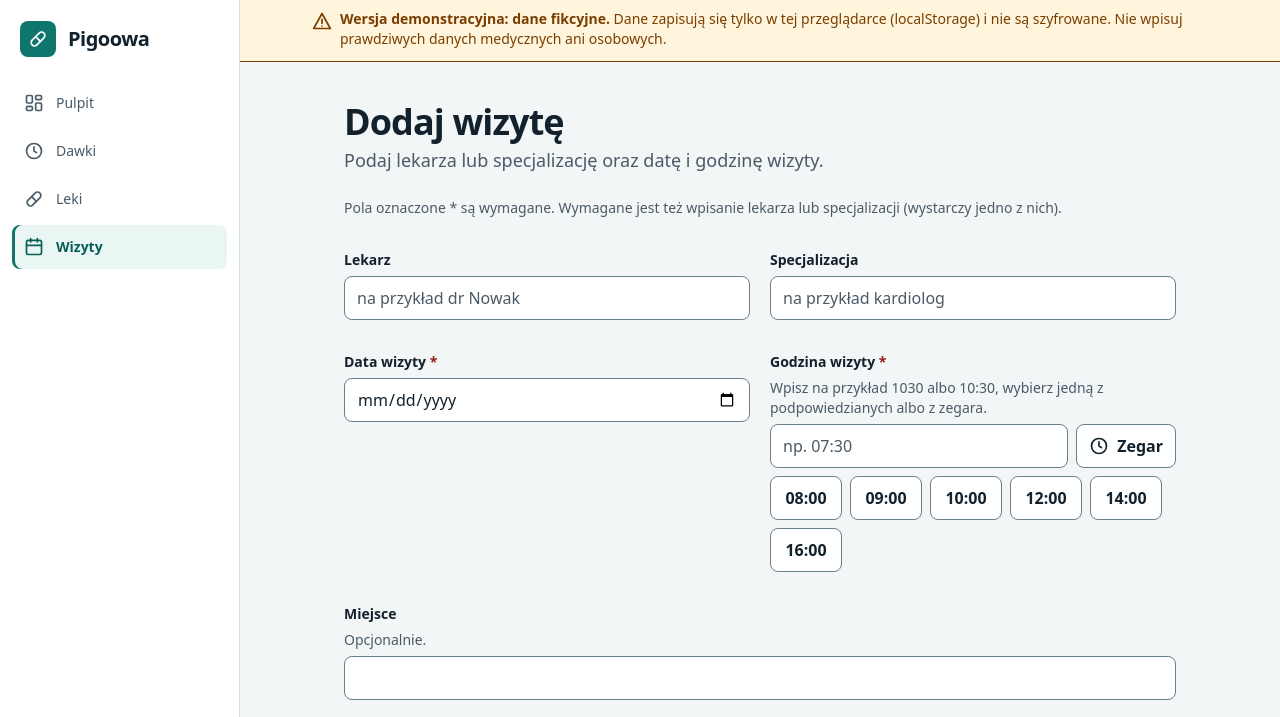
Test: add appointment: saving › shows a failed save as an error with the input kept, and a retry then saves exactly one
The width and height of the screenshot is (1280, 717).
In the field labelled "Lekarz": (547, 298) [344,276,750,320], type "dr Nowak"
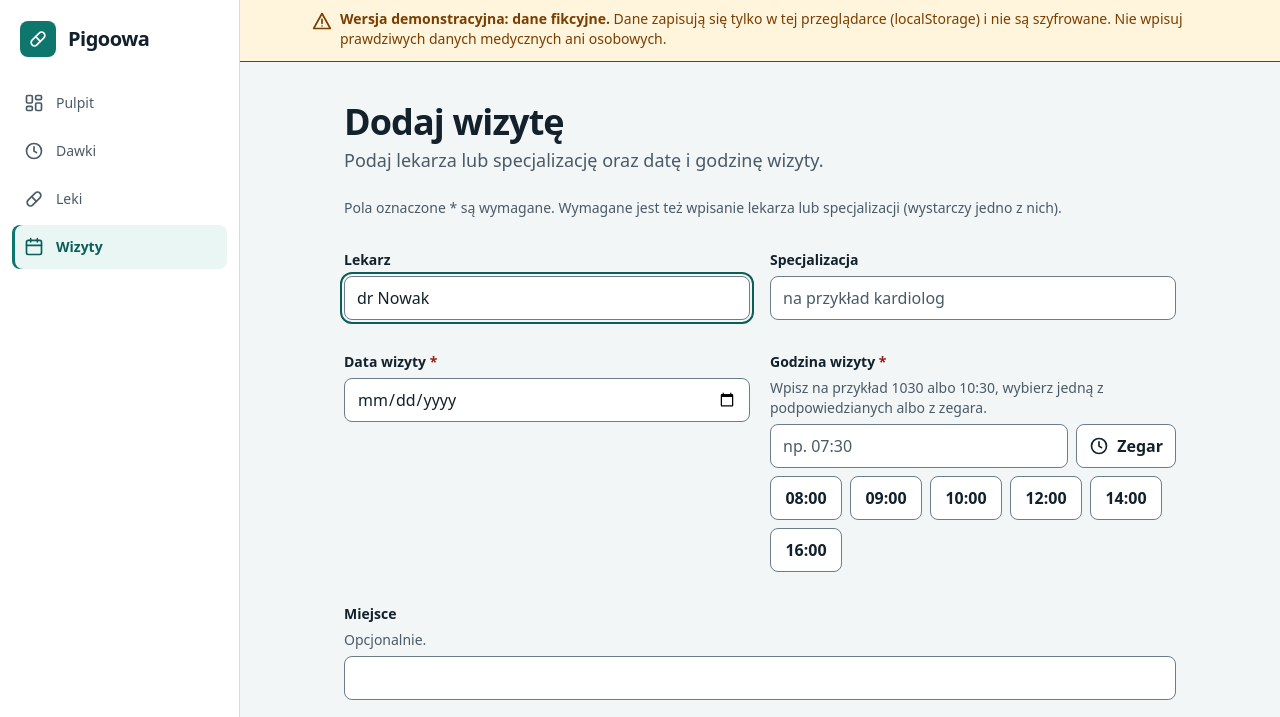
In the date field labelled "Data wizyty *": (547, 400) [344,378,750,422], type "2026-10-20"
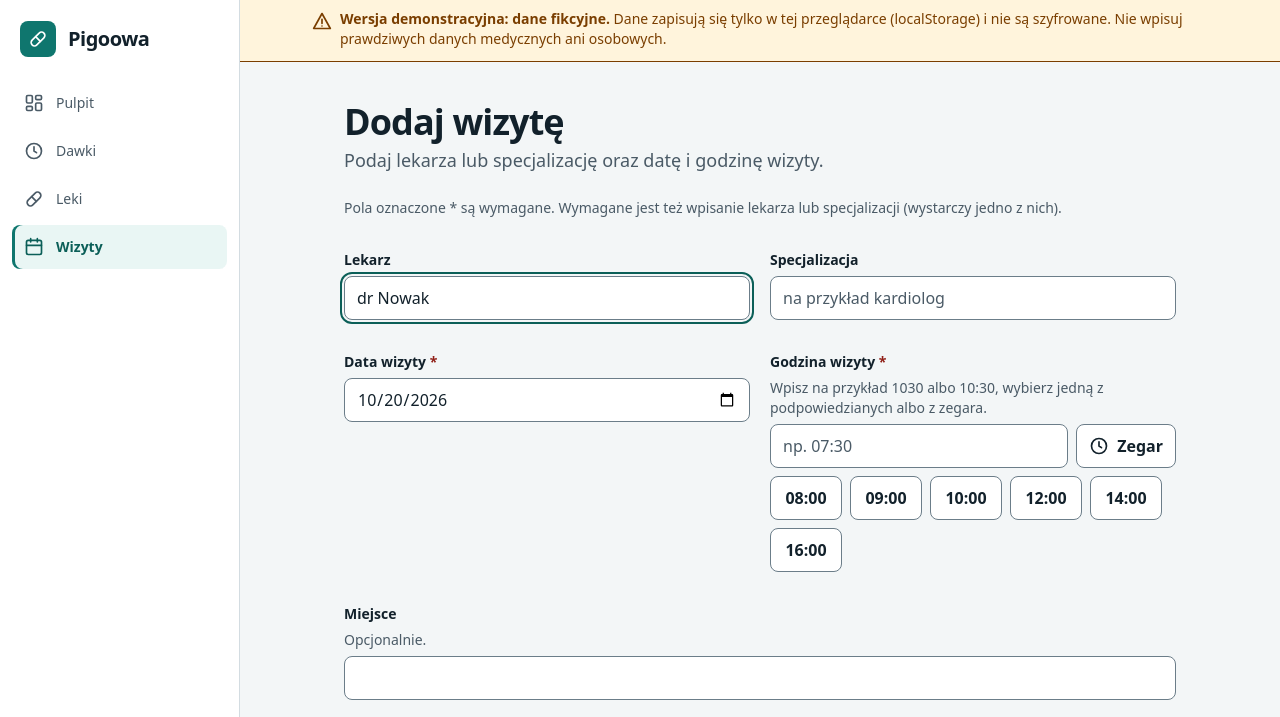
In the field labelled "Godzina wizyty *": (919, 446) [770,424,1068,468], type "10:00"
(page scrolled)
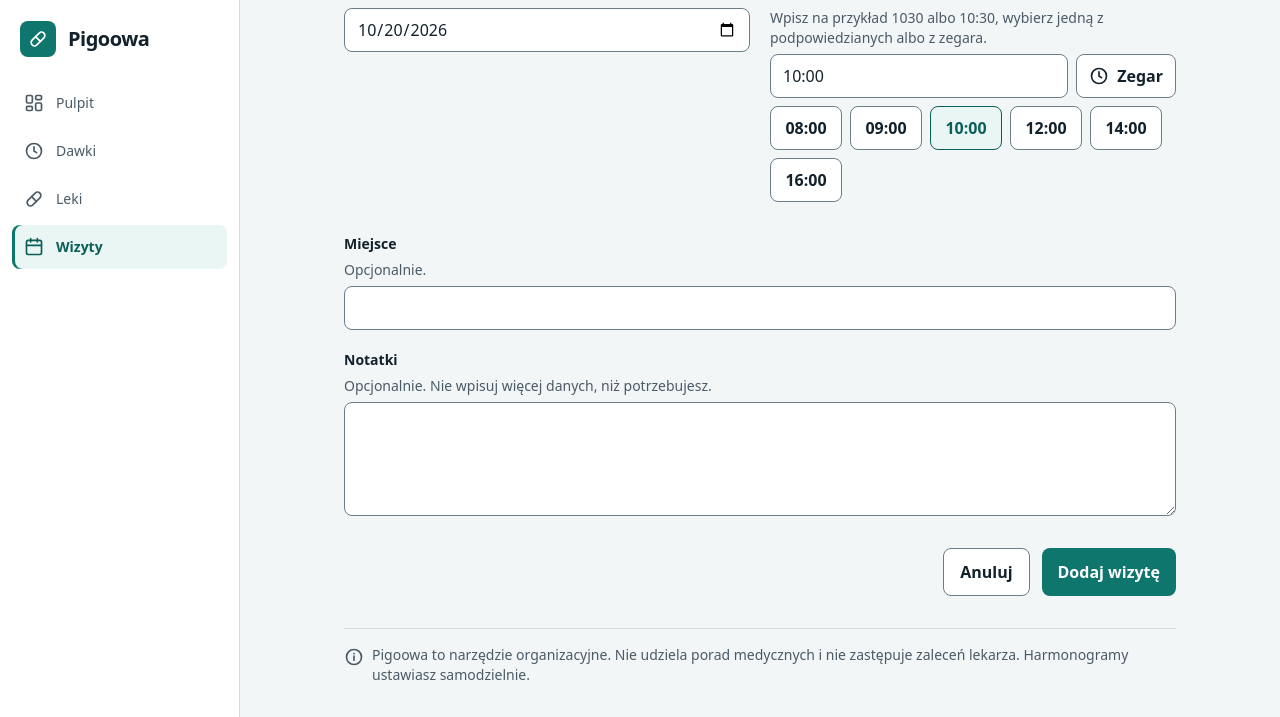
Click the button "Dodaj wizytę": (1109, 572) [1042,548,1176,596]
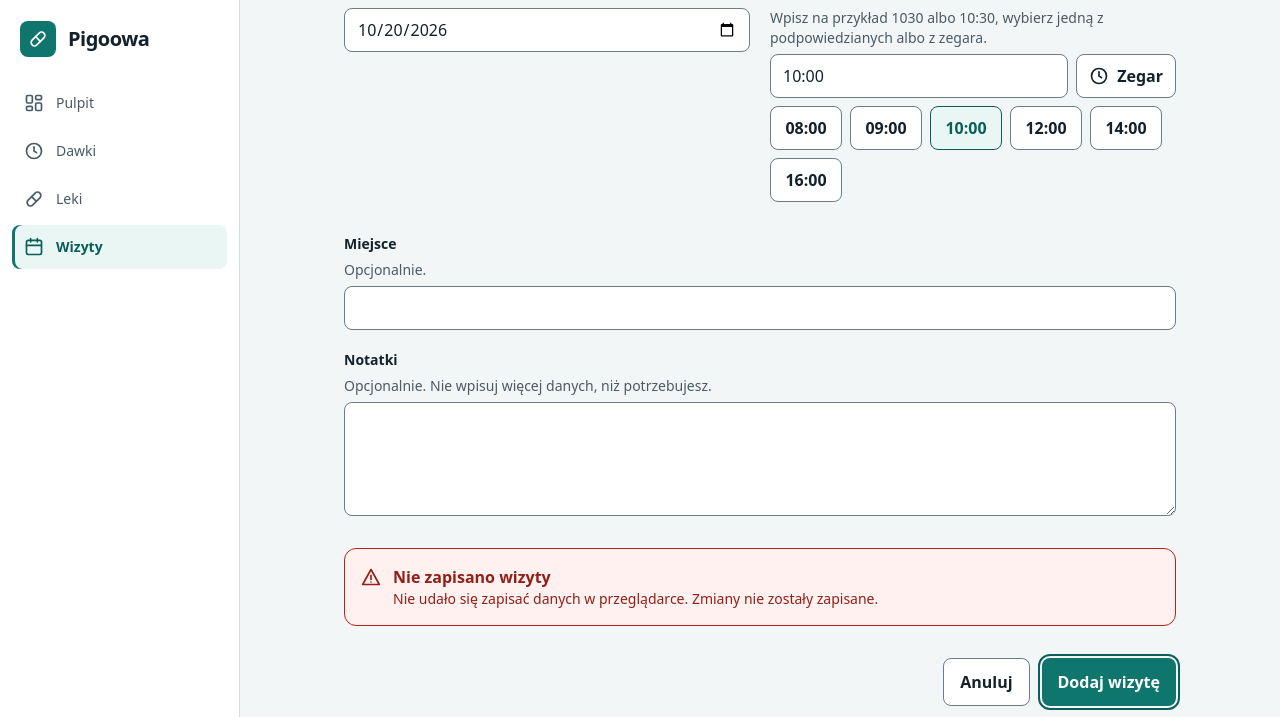
Expected: the message shows "Nie zapisano wizyty", [393,566,551,588]
Expected: the message shows "Zmiany nie zostały zapisane", [393,589,878,608]
Click the button "Dodaj wizytę": (1109, 682) [1042,658,1176,706]
(page scrolled)
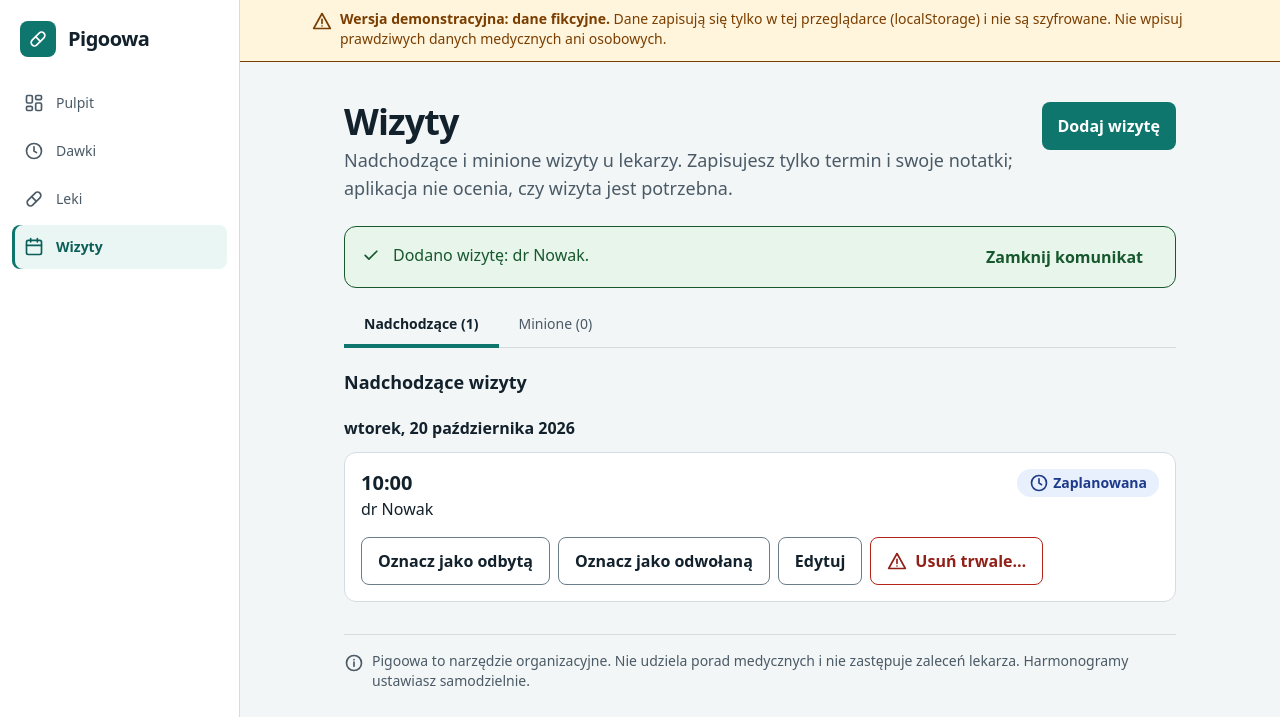
Expected: the text "Dodano wizytę: dr Nowak." is shown, [393,244,589,266]
